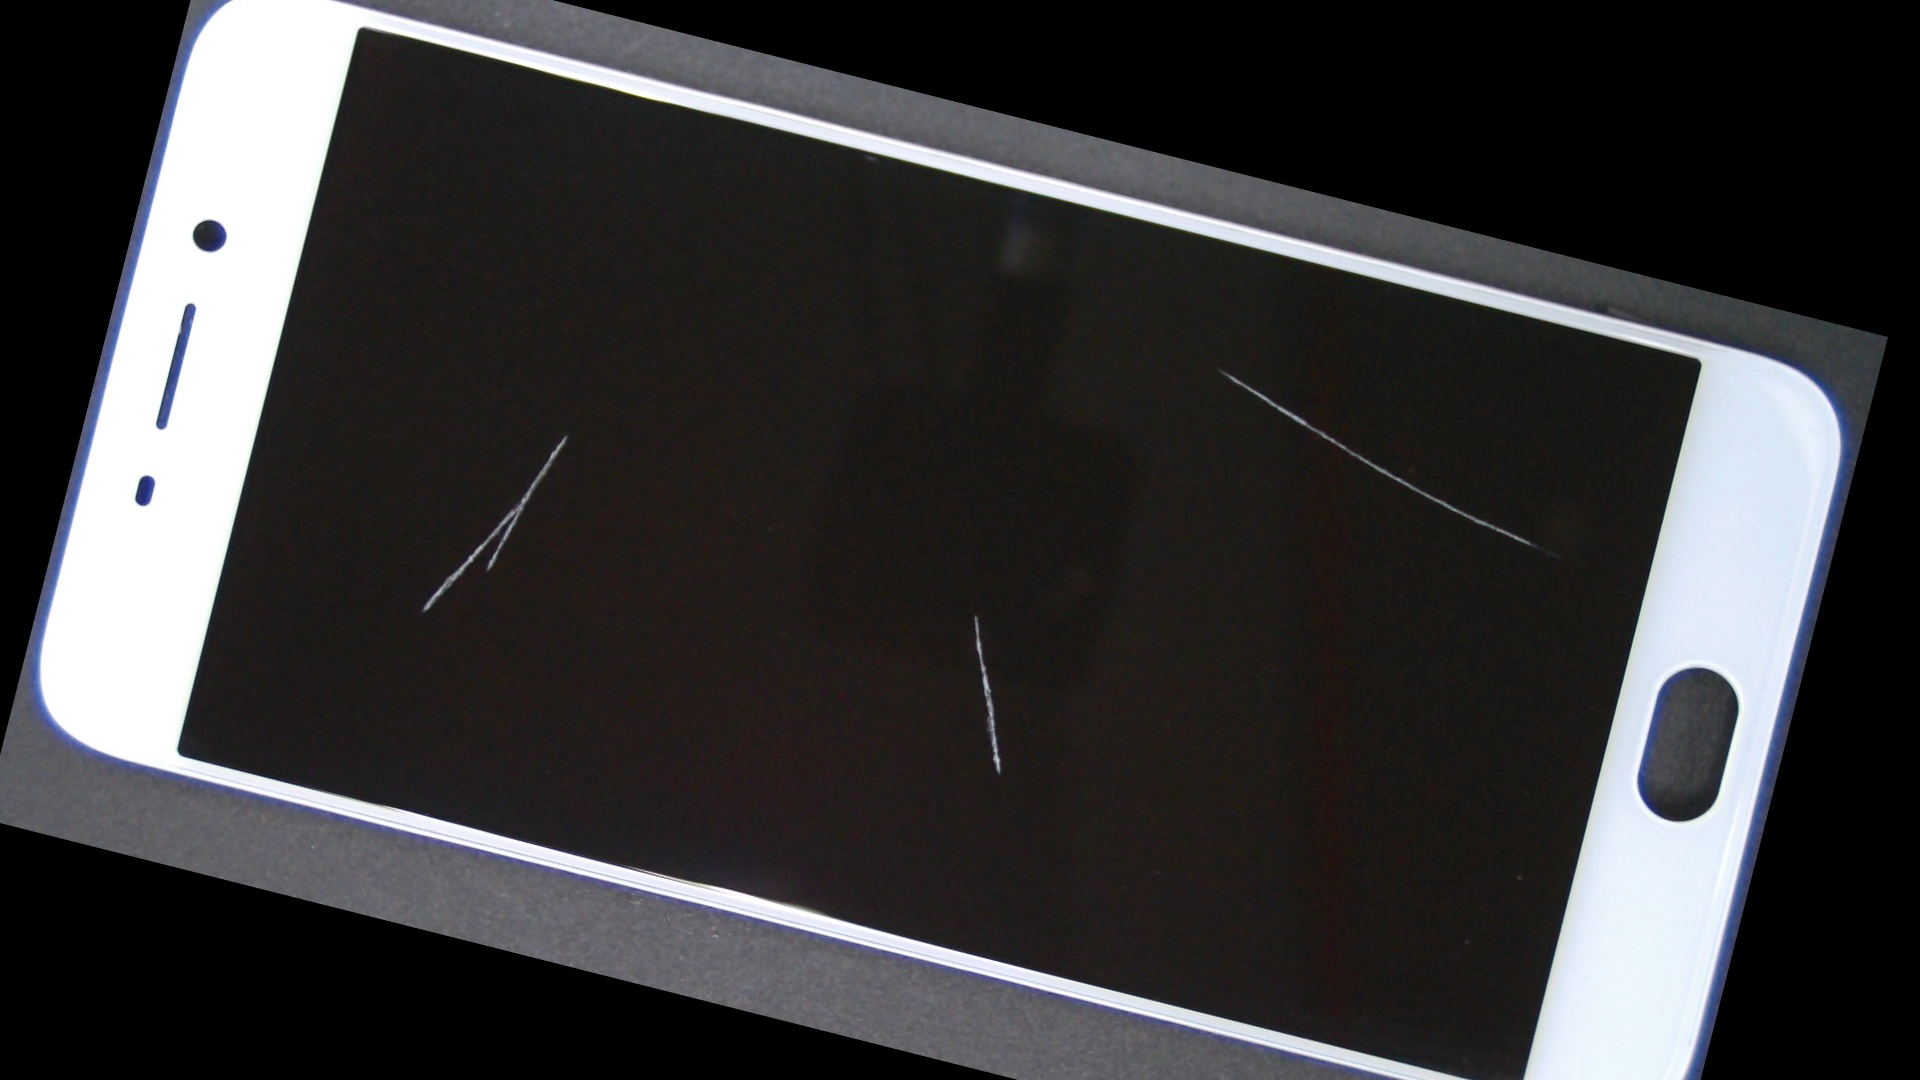oil: (472, 262, 1476, 967), (667, 140, 1770, 596), (286, 174, 843, 695)
